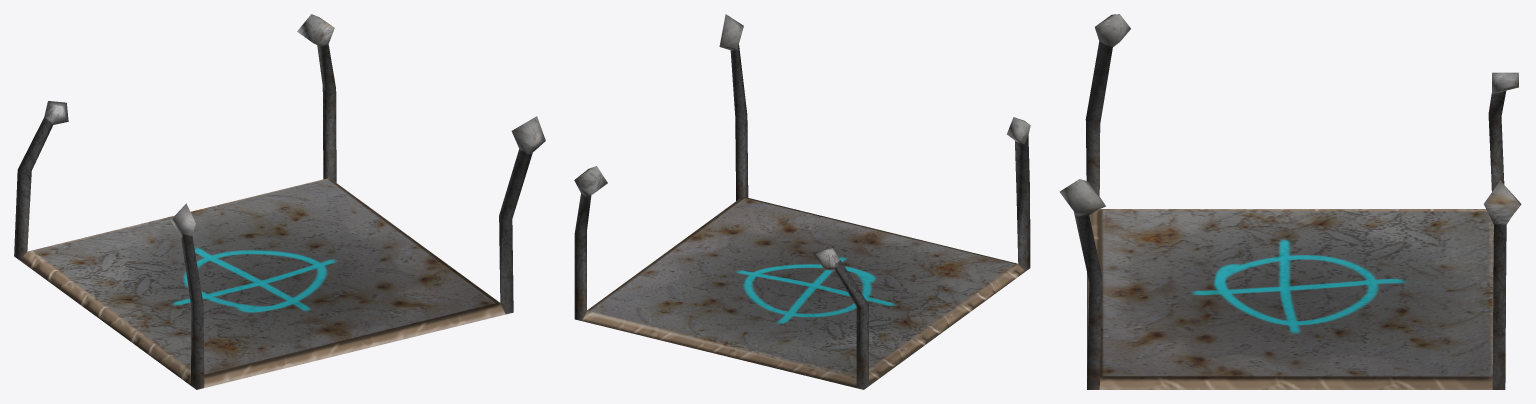
The model's file is JumpPad.FBX.
The picture shows the model from 3 angles, left to right: view 1: azimuth 30°, elevation 25°; view 2: azimuth 150°, elevation 25°; view 3: azimuth 270°, elevation 25°; orthographic projection. The views are drawn at different scales.
Visible parts, largest first — view 1: JumpPad; view 2: JumpPad; view 3: JumpPad.
Part boxes in pixels (box(x1,y1,x2,y2)): JumpPad: box(14, 14, 545, 389); JumpPad: box(574, 14, 1030, 389); JumpPad: box(1059, 14, 1521, 389).
Size of the model in its own units: 83.11 by 43.49 by 81.92.
